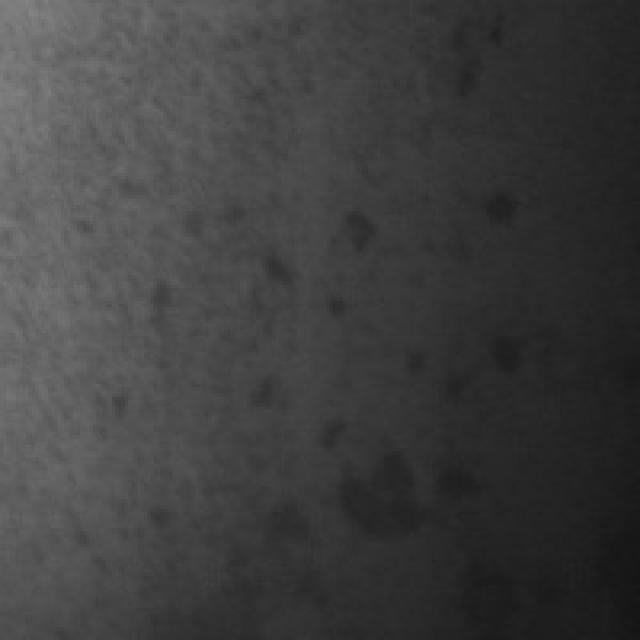pitted_surface: (42, 9, 352, 604), (246, 157, 432, 579)
